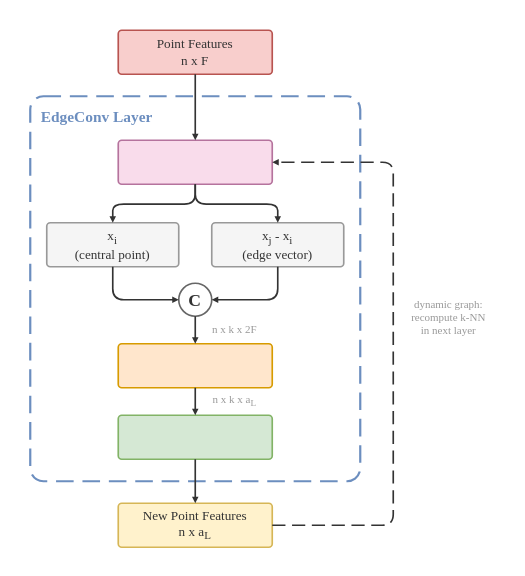
This 525x576 diagram has some shape labels left out. The centre of each missing label's shape, as x and y in pixels:
k-NN Graph (feature space): the point at 195,162
Max Aggregation over k neighbours: the point at 195,437
Shared MLP h Θ (a 1 , ..., a L ): the point at 195,365
